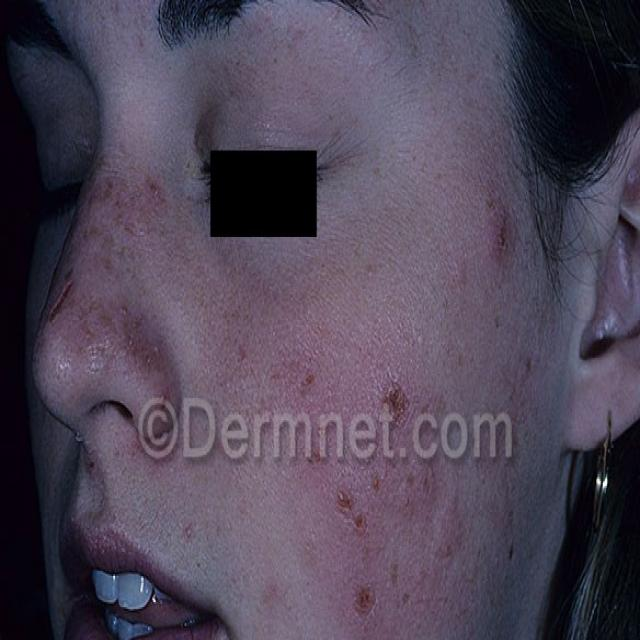Acne: (284, 339, 473, 640), (36, 169, 180, 381), (463, 171, 529, 283), (174, 502, 207, 567), (260, 579, 281, 625)
